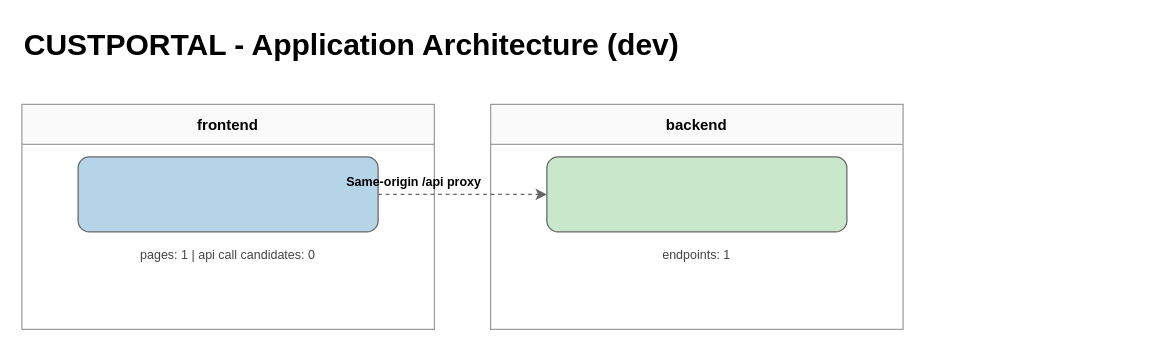
Image size: 1169x351. Some labels were removed from this diagram. The shapes that lost their labels are listed below. From the top down, each one's centre as x and y in pixels, then its label:
At point (227, 194): "Angular UI".
At point (696, 194): "ASP.NET Core API".
